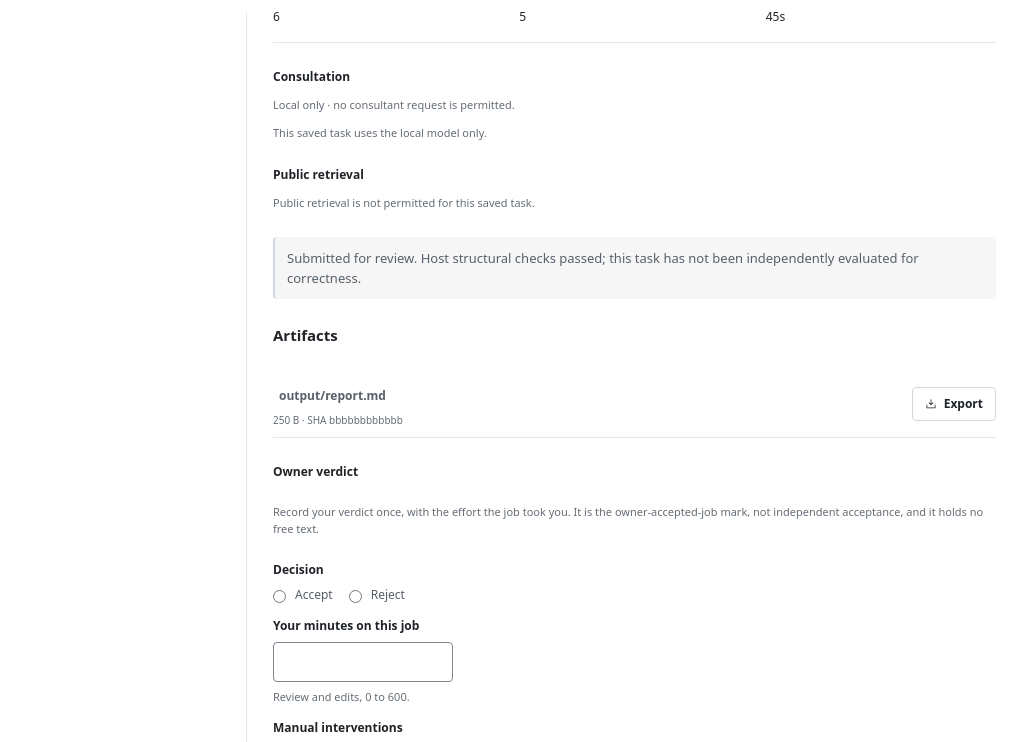
Scenario: general task workspace › renders hostile Markdown without active HTML, images, links or embedded content
(page scrolled)
Click the button with aria-label "Preview output/report.md": click(332, 396) top-left (273, 379), bottom-right (392, 413)
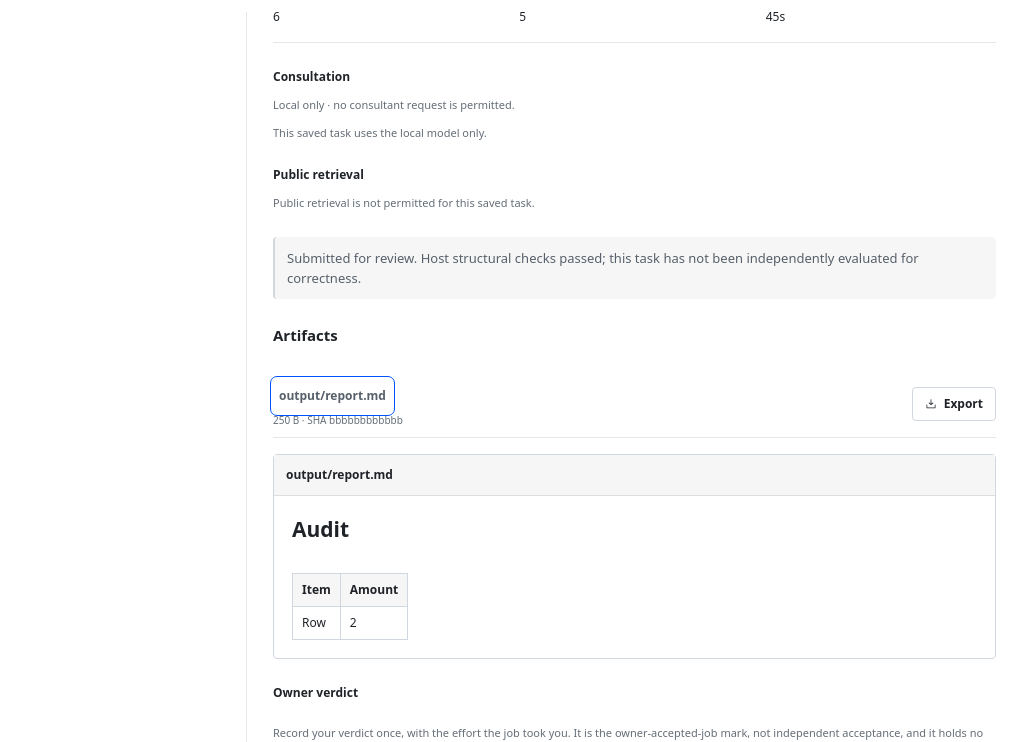
Result: the heading "Audit" is shown at top-left (292, 515), bottom-right (349, 543)
Result: the table is shown at top-left (292, 573), bottom-right (977, 640)
